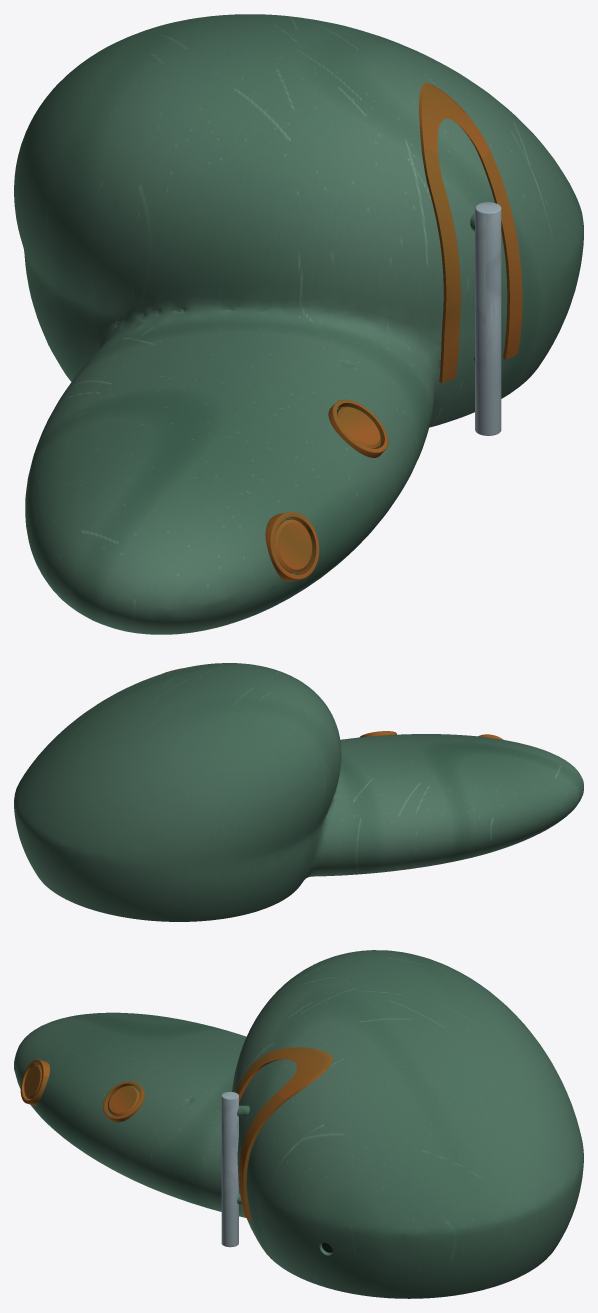
3 views of the same model, one above another, from view 1: azimuth 30°, elevation 25°; view 2: azimuth 150°, elevation 25°; view 3: azimuth 270°, elevation 25° (orthographic). The views are drawn at different scales.
Visible parts, largest first — view 1: Advanced Ore Extractor continuous two-lobed green shell, Advanced Ore Extractor narrow open-bottom brass arch, Advanced Ore Extractor straight pale vertical rod, Advanced Ore Extractor copper front fitting 0, Advanced Ore Extractor front fitting rim 0, Advanced Ore Extractor copper front fitting 1, Advanced Ore Extractor front fitting rim 1; view 2: Advanced Ore Extractor continuous two-lobed green shell; view 3: Advanced Ore Extractor continuous two-lobed green shell, Advanced Ore Extractor narrow open-bottom brass arch, Advanced Ore Extractor straight pale vertical rod, Advanced Ore Extractor copper front fitting 1, Advanced Ore Extractor front fitting rim 0, Advanced Ore Extractor front fitting rim 1, Advanced Ore Extractor copper front fitting 0.
Part boxes in pixels (x1=…): Advanced Ore Extractor continuous two-lobed green shell: x1=14, y1=14, x2=583, y2=634; Advanced Ore Extractor narrow open-bottom brass arch: x1=419, y1=83, x2=522, y2=383; Advanced Ore Extractor straight pale vertical rod: x1=475, y1=202, x2=501, y2=435; Advanced Ore Extractor copper front fitting 0: x1=274, y1=519, x2=312, y2=573; Advanced Ore Extractor front fitting rim 0: x1=265, y1=512, x2=319, y2=581; Advanced Ore Extractor copper front fitting 1: x1=337, y1=406, x2=381, y2=448; Advanced Ore Extractor front fitting rim 1: x1=328, y1=399, x2=388, y2=457; Advanced Ore Extractor continuous two-lobed green shell: x1=14, y1=663, x2=583, y2=921; Advanced Ore Extractor continuous two-lobed green shell: x1=14, y1=950, x2=583, y2=1298; Advanced Ore Extractor narrow open-bottom brass arch: x1=235, y1=1047, x2=332, y2=1220; Advanced Ore Extractor straight pale vertical rod: x1=221, y1=1092, x2=238, y2=1247; Advanced Ore Extractor copper front fitting 1: x1=108, y1=1086, x2=139, y2=1116; Advanced Ore Extractor front fitting rim 0: x1=20, y1=1059, x2=49, y2=1105; Advanced Ore Extractor front fitting rim 1: x1=103, y1=1081, x2=144, y2=1122; Advanced Ore Extractor copper front fitting 0: x1=24, y1=1064, x2=41, y2=1099.
Size of the model in its own units: 1.92 by 0.8636 by 1.95.
Materials: 4 (3 with a texture image).
